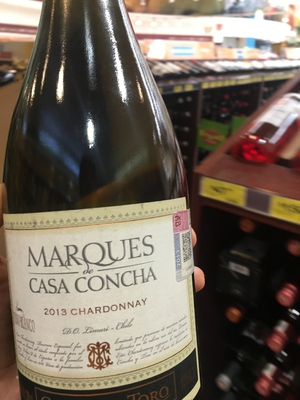marques de casa concha chardonnay: (2, 8, 195, 400)
